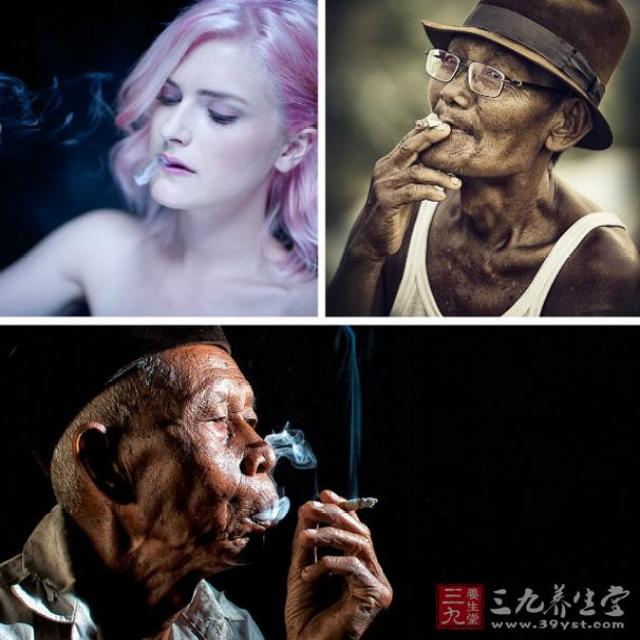cigarette: (331, 492, 383, 516), (415, 121, 444, 139)
